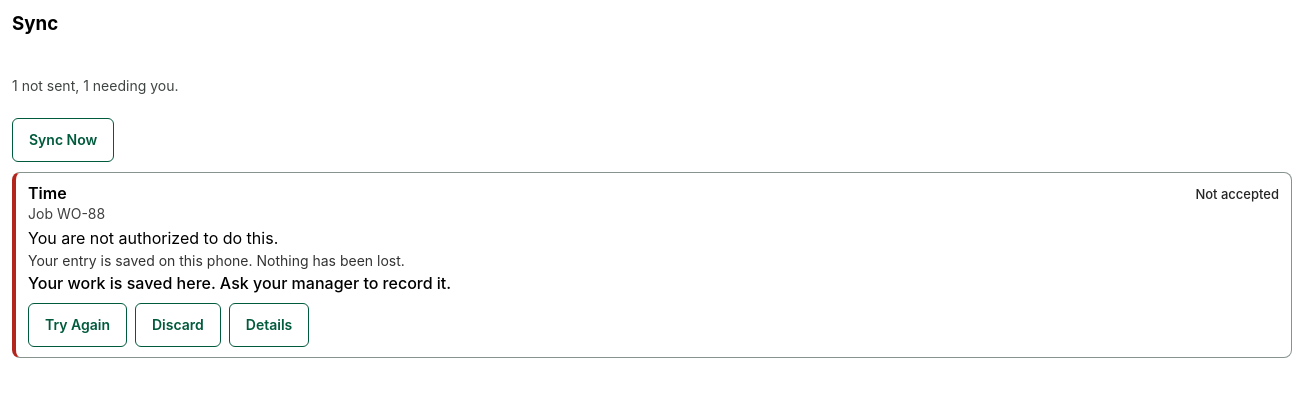
Test case: the sync queue › the raw code IS available for a support conversation
Click the button "Details" at point(269, 325), box [229,303,309,347]
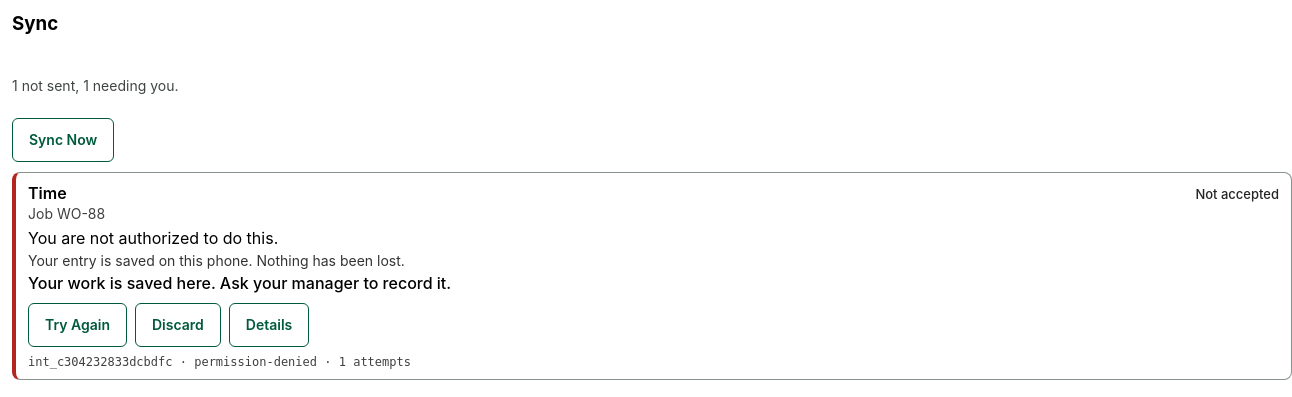
Now the text "permission-denied" is shown, box [194,355,317,369]
